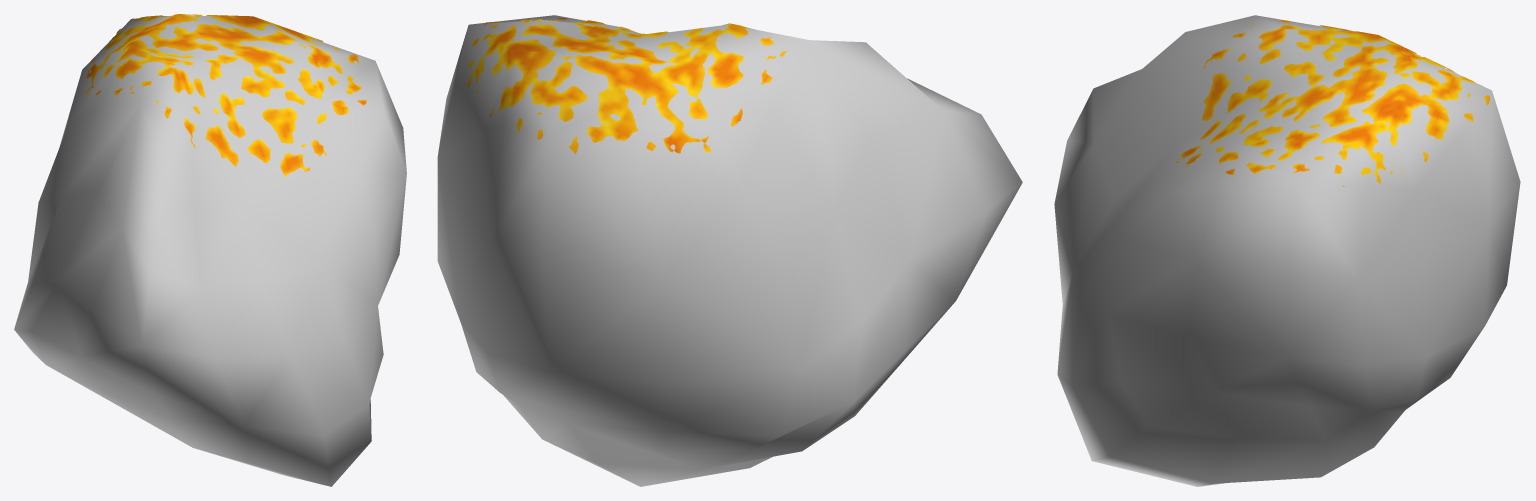
The model's file is INST_SWORDLIGHT_ROCKGLOWA.obj.
3 views of the same model, side by side, from view 1: azimuth 30°, elevation 25°; view 2: azimuth 150°, elevation 25°; view 3: azimuth 270°, elevation 25° (orthographic). The views are drawn at different scales.
Parts seen in each view (by area): view 1: ckGlowA_Lod1_01; view 2: ckGlowA_Lod1_01; view 3: ckGlowA_Lod1_01.
Part boxes in pixels (x1=…): ckGlowA_Lod1_01: x1=14, y1=14, x2=406, y2=486; ckGlowA_Lod1_01: x1=437, y1=15, x2=1022, y2=486; ckGlowA_Lod1_01: x1=1054, y1=15, x2=1520, y2=486.
Bounding box in the file's own units: 211 × 211 × 211.
